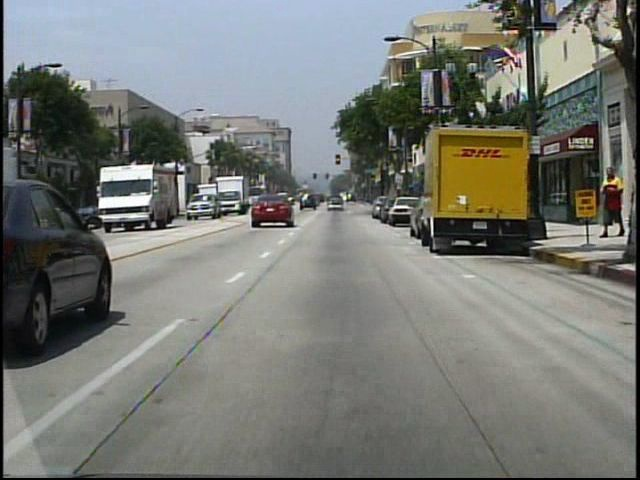person: (596, 165, 624, 240)
